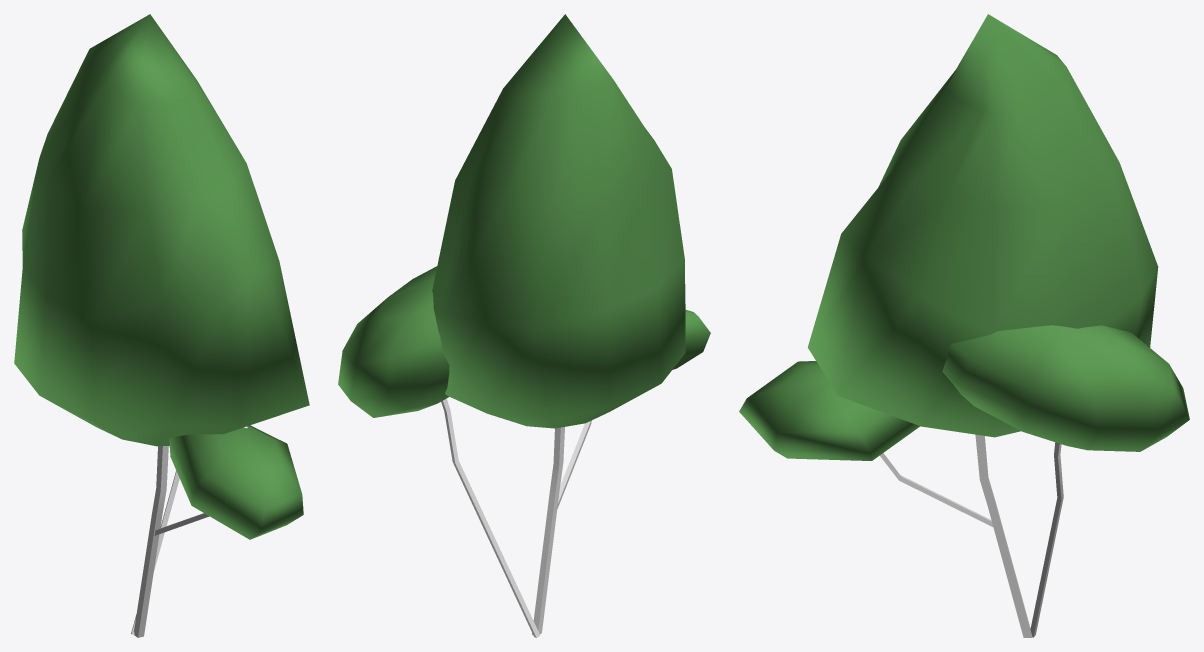
File: test tree 1.fbx
3 renders of one model, left to right at view 1: azimuth 30°, elevation 25°; view 2: azimuth 150°, elevation 25°; view 3: azimuth 270°, elevation 25°, orthographic. The views are drawn at different scales.
Visible parts, largest first — view 1: pSphere8, pSphere7, pCube4, pCube5; view 2: pSphere8, pSphere5, pCube4, pCube5, pSphere7, pCube6; view 3: pSphere8, pSphere5, pSphere7, pCube4, pCube5, pCube6.
Boxes of the visible parts, bbox=[...] form: pSphere8: bbox=[14, 14, 309, 446]; pSphere7: bbox=[169, 425, 303, 539]; pCube4: bbox=[134, 446, 168, 637]; pCube5: bbox=[131, 471, 179, 634]; pSphere8: bbox=[432, 14, 685, 428]; pSphere5: bbox=[338, 266, 449, 417]; pCube4: bbox=[532, 427, 564, 634]; pCube5: bbox=[441, 398, 540, 637]; pSphere7: bbox=[672, 310, 710, 369]; pCube6: bbox=[557, 420, 591, 508]; pSphere8: bbox=[807, 14, 1158, 437]; pSphere5: bbox=[942, 325, 1189, 451]; pSphere7: bbox=[739, 361, 919, 460]; pCube4: bbox=[975, 434, 1032, 637]; pCube5: bbox=[1030, 442, 1063, 637]; pCube6: bbox=[880, 453, 993, 526].
Size of the model in its own units: 3.5 by 7.94 by 5.24.
